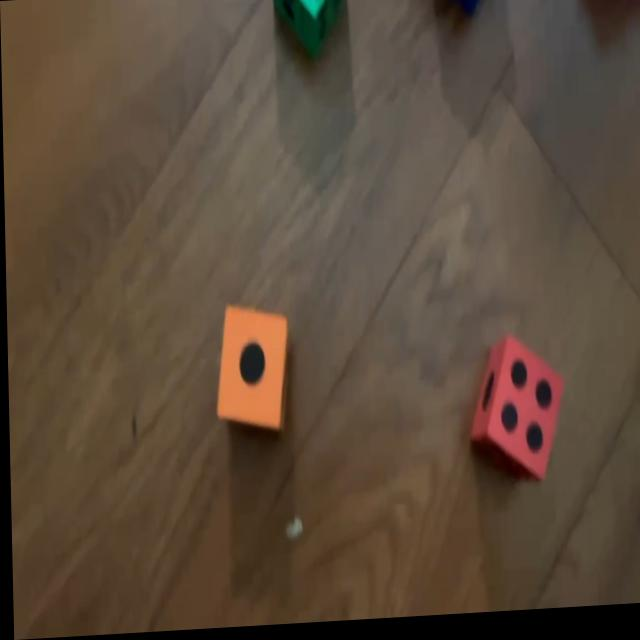cube: (468, 341, 563, 489), (271, 0, 348, 62), (438, 0, 494, 18)
